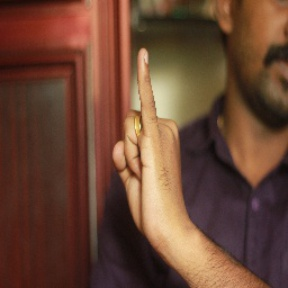I: (108, 47, 187, 240)
